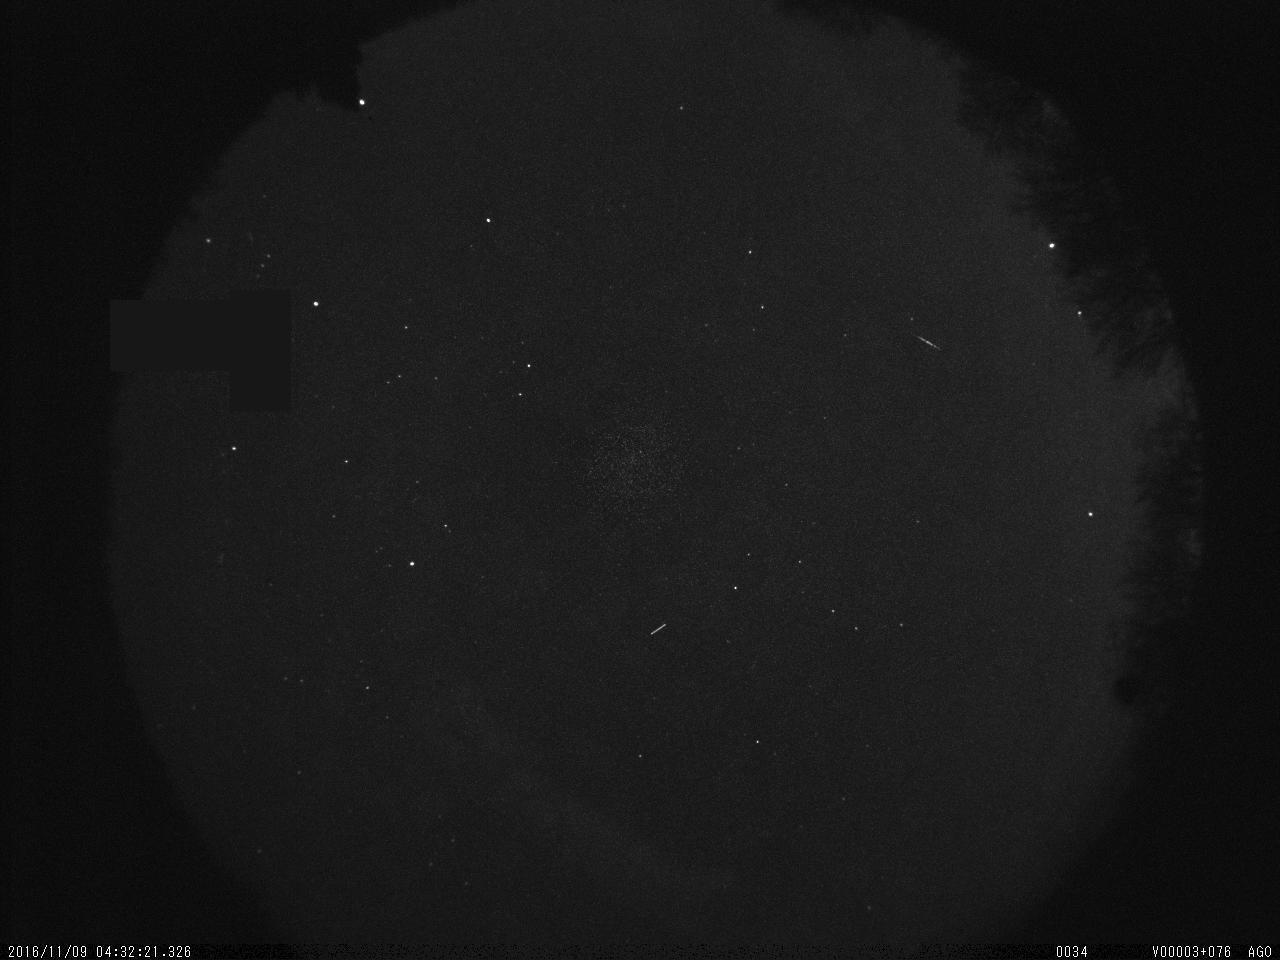meteor: (908, 331, 944, 357)
satelite: (647, 614, 673, 641)
